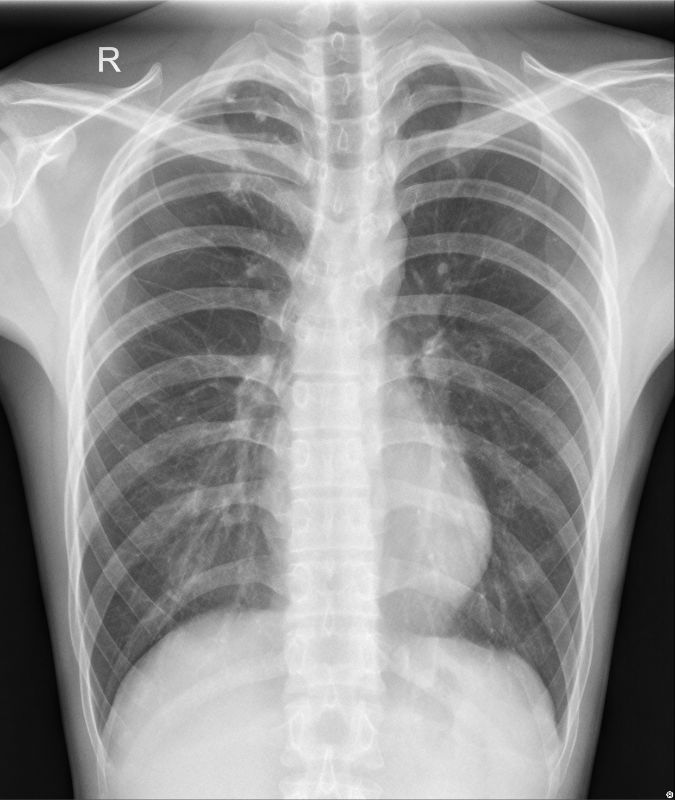Tuberculosis (TB): (209, 91, 274, 215)
